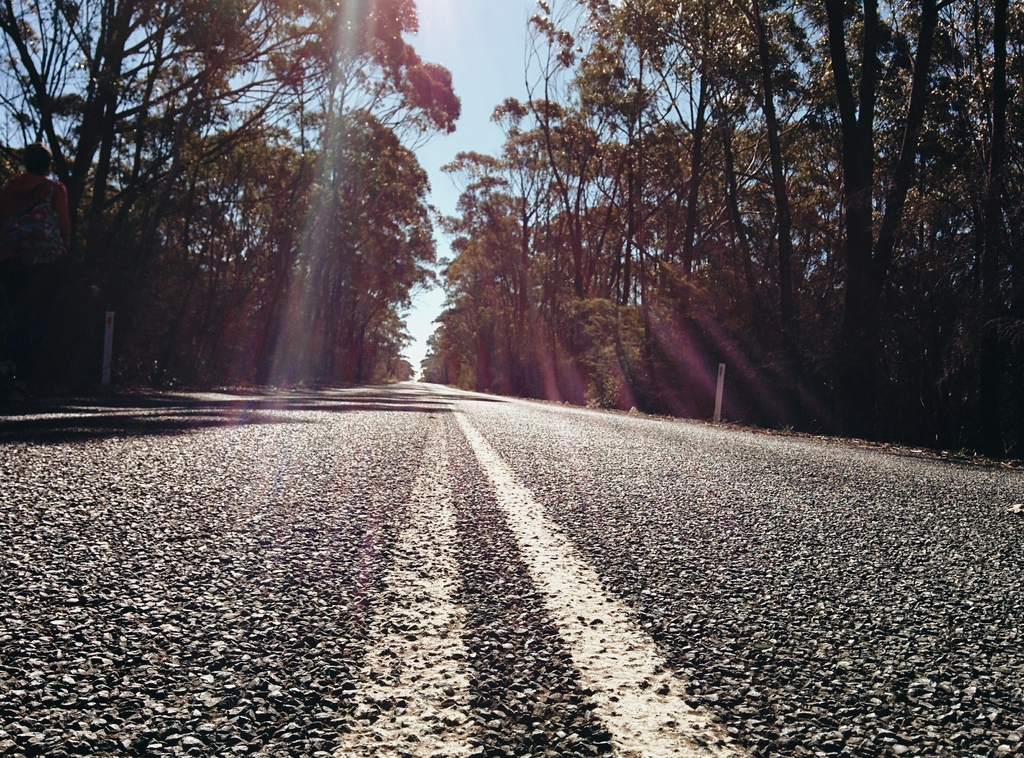Tree: (442, 0, 1023, 455), (0, 0, 458, 391)
